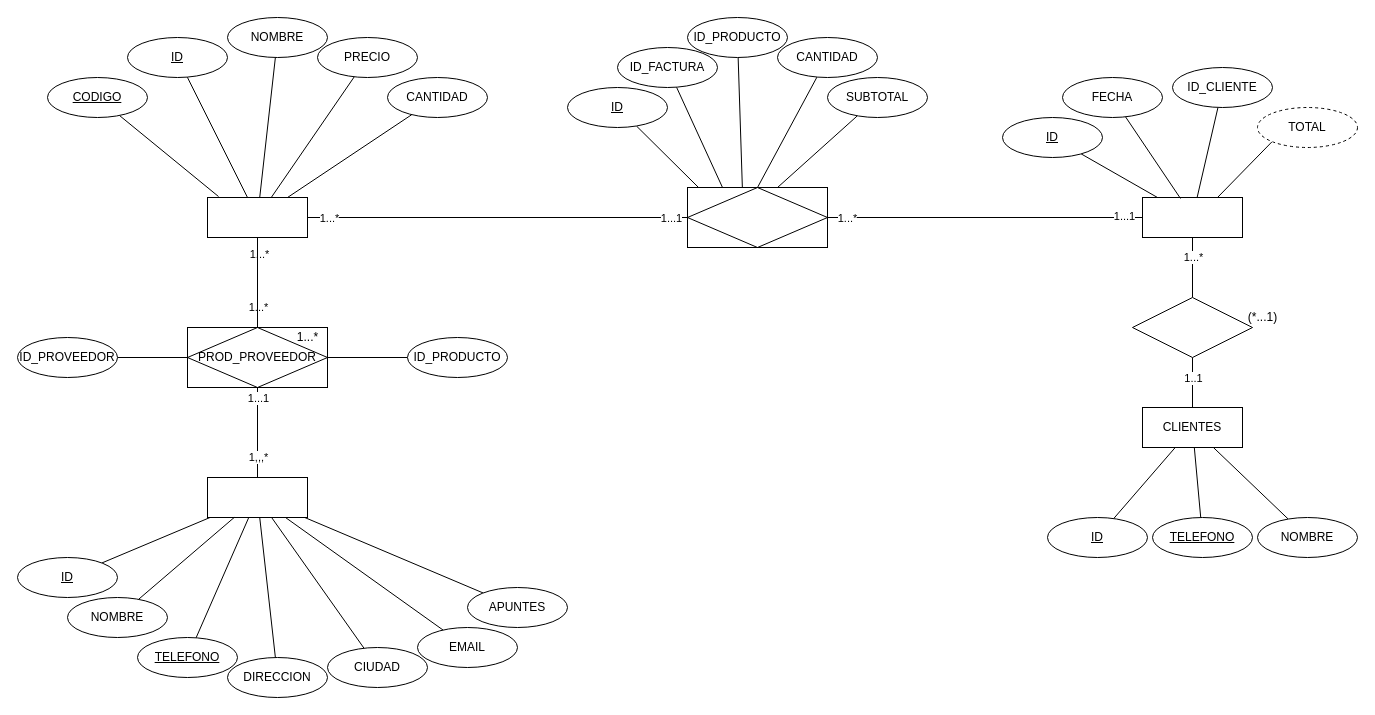
Some shapes in this 1375 by 715 pixel diagram are drawn without their labels. Each missing label, with the centre of its shape:
FACTURA: the point at 1192,217
PERTENECE: the point at 1192,327
PRODUCTOS: the point at 257,217
Proveedores: the point at 257,497
VENTA: the point at 757,217
